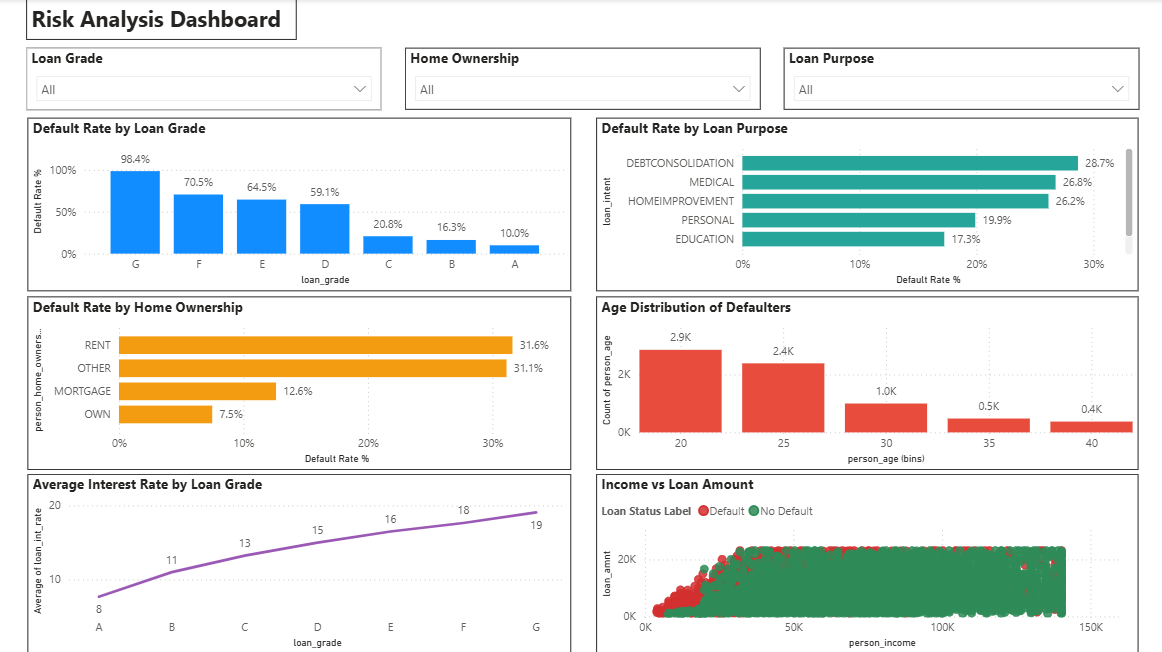

This screenshot's page, from the dashboard's own definition file:
{"tool":"powerbi","page":{"name":"Risk Analysis Dashboard","canvas":[1280,720],"ordinal":1},"visuals":[{"type":"textbox","box":[28.3,0,296.7,45],"z":0},{"type":"slicer","title":"Loan Purpose","fields":{"Values":["cleaned_credit_risk_dataset.loan_intent"]},"box":[860,53.3,390,68.3],"z":1000},{"type":"slicer","title":"Loan Grade","fields":{"Values":["cleaned_credit_risk_dataset.loan_grade"]},"box":[28.8,53.5,389.7,68.6],"z":2000},{"type":"slicer","title":"Home Ownership","fields":{"Values":["cleaned_credit_risk_dataset.person_home_ownership"]},"box":[445,53.3,390,68.3],"z":3000},{"type":"clusteredColumnChart","title":"Default Rate by Loan Grade","fields":{"Category":["cleaned_credit_risk_dataset.loan_grade"],"Y":["cleaned_credit_risk_dataset.Default Rate %"]},"box":[29.8,129.8,597.1,190.4],"z":4000},{"type":"clusteredBarChart","title":"Default Rate by Home Ownership","fields":{"Category":["cleaned_credit_risk_dataset.person_home_ownership"],"Y":["cleaned_credit_risk_dataset.Default Rate %"]},"box":[29.8,326.9,597.1,190.4],"z":5000},{"type":"clusteredBarChart","title":"Default Rate by Loan Purpose","fields":{"Category":["cleaned_credit_risk_dataset.loan_intent"],"Y":["cleaned_credit_risk_dataset.Default Rate %"]},"box":[654.8,129.8,595.2,190.4],"z":6000},{"type":"scatterChart","title":"Income vs Loan Amount","fields":{"X":["cleaned_credit_risk_dataset.person_income"],"Y":["cleaned_credit_risk_dataset.loan_amnt"],"Series":["cleaned_credit_risk_dataset.Loan Status Label"]},"box":[654.5,521.4,595.5,197.6],"z":7000},{"type":"lineChart","title":"Average Interest Rate by Loan Grade","fields":{"Category":["cleaned_credit_risk_dataset.loan_grade"],"Y":["Avg(cleaned_credit_risk_dataset.loan_int_rate)"]},"box":[30.2,521.4,596.9,197.6],"z":8000},{"type":"clusteredColumnChart","title":"Age Distribution of Defaulters","fields":{"Y":["CountNonNull(cleaned_credit_risk_dataset.person_age)"],"Category":["cleaned_credit_risk_dataset.person_age (bins)"]},"box":[654.8,326.9,595.2,190.4],"z":9000}]}

Visuals, with their boxes in screenshot pixels (x1, y1, x2, y2), scaled from the page's 1280x720 canvas onto the 1162x652 screenshot:
textbox: bbox(26, 0, 295, 41)
"Loan Purpose" slicer: bbox(781, 48, 1135, 110)
"Loan Grade" slicer: bbox(26, 48, 380, 111)
"Home Ownership" slicer: bbox(404, 48, 758, 110)
"Default Rate by Loan Grade" clusteredColumnChart: bbox(27, 118, 569, 290)
"Default Rate by Home Ownership" clusteredBarChart: bbox(27, 296, 569, 468)
"Default Rate by Loan Purpose" clusteredBarChart: bbox(594, 118, 1135, 290)
"Income vs Loan Amount" scatterChart: bbox(594, 472, 1135, 651)
"Average Interest Rate by Loan Grade" lineChart: bbox(27, 472, 569, 651)
"Age Distribution of Defaulters" clusteredColumnChart: bbox(594, 296, 1135, 468)
